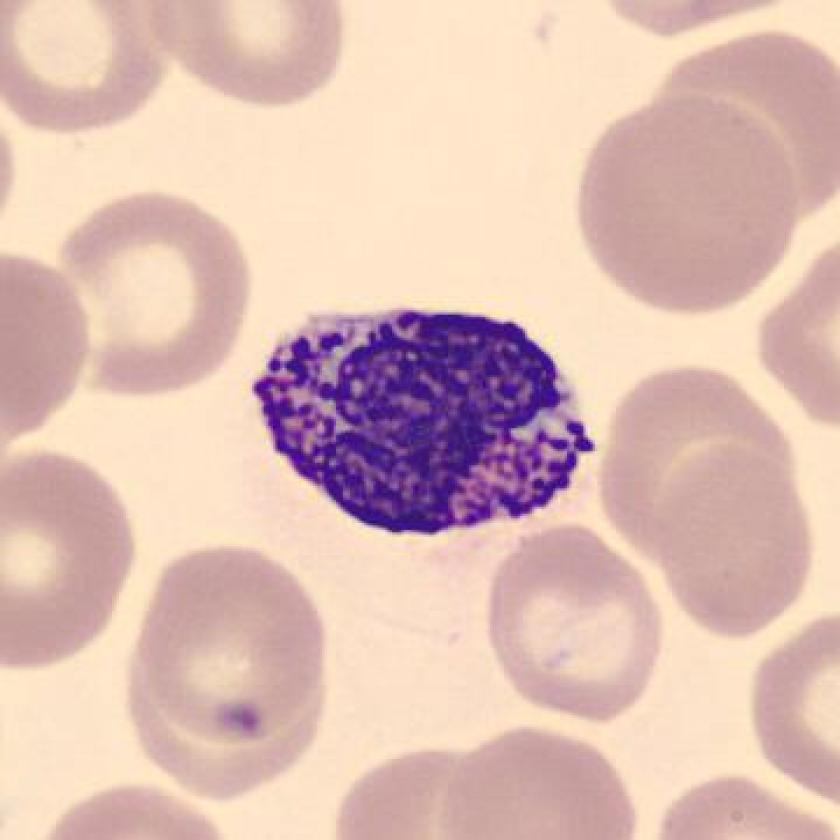basophil: (230, 297, 612, 540)
